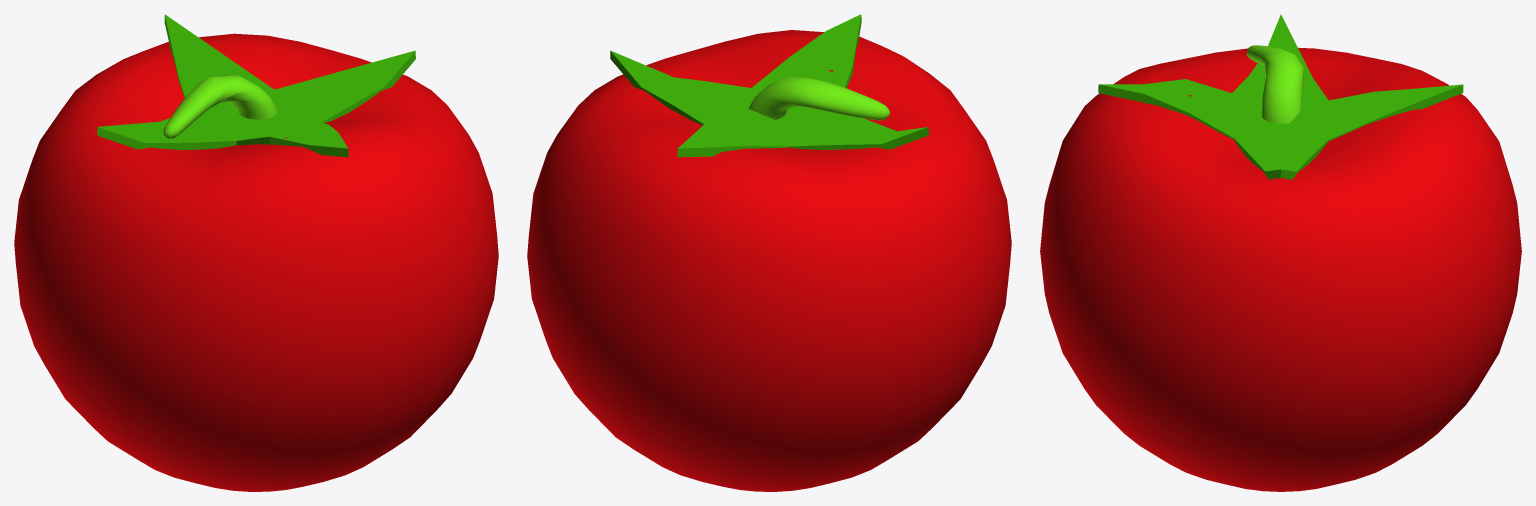
File: tomato.glb
3 renders of one model, left to right at view 1: azimuth 30°, elevation 25°; view 2: azimuth 150°, elevation 25°; view 3: azimuth 270°, elevation 25°, orthographic.
Visible parts, largest first — view 1: Sphere, Circle, Cylinder; view 2: Sphere, Circle, Cylinder; view 3: Sphere, Circle, Cylinder.
Boxes of the visible parts, x1,y1,x2,y2 form: Sphere: (14,33,498,491); Circle: (97,14,415,157); Cylinder: (163,74,277,138); Sphere: (527,30,1011,491); Circle: (610,14,928,157); Cylinder: (748,76,889,120); Sphere: (1040,47,1521,491); Circle: (1098,14,1463,179); Cylinder: (1246,45,1303,123).
Bounding box in the file's own units: 0.3271 × 0.2974 × 0.3271.
Materials: 3 (3 with a texture image).
